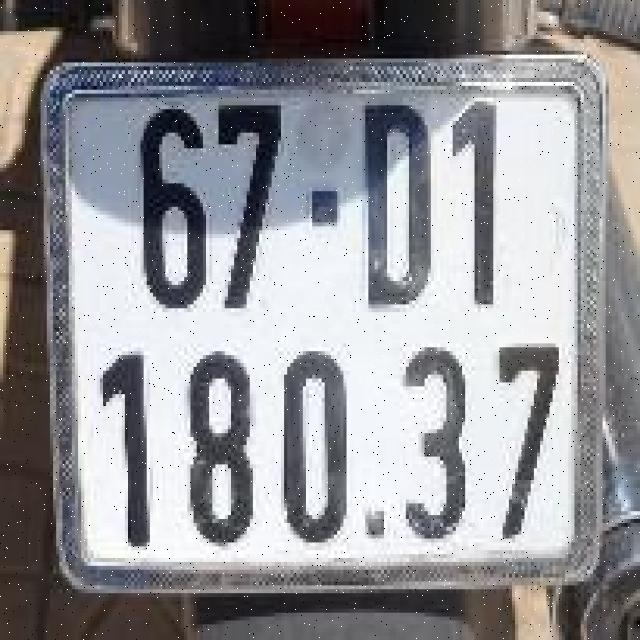0: (268, 338, 353, 544)
1: (91, 347, 156, 566), (450, 90, 502, 316)
3: (395, 336, 479, 554)
6: (133, 104, 217, 314)
7: (206, 78, 287, 320), (478, 330, 562, 552)
8: (175, 344, 262, 550)
D: (350, 92, 440, 322)
